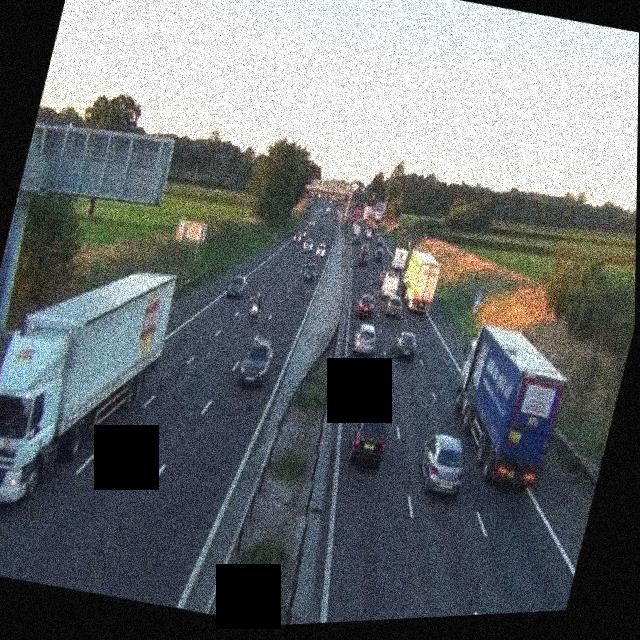car: (413, 428, 472, 500), (344, 401, 393, 469), (236, 334, 277, 390), (350, 321, 379, 358), (390, 326, 418, 362), (354, 292, 377, 320), (246, 293, 266, 325), (226, 271, 247, 299), (384, 292, 405, 318), (302, 259, 318, 282), (372, 246, 386, 265), (314, 241, 327, 260), (357, 249, 370, 266), (301, 237, 314, 253), (378, 237, 389, 251), (292, 230, 302, 243)
truck: (0, 239, 179, 535), (436, 316, 578, 496), (395, 248, 443, 316), (378, 266, 402, 302)
